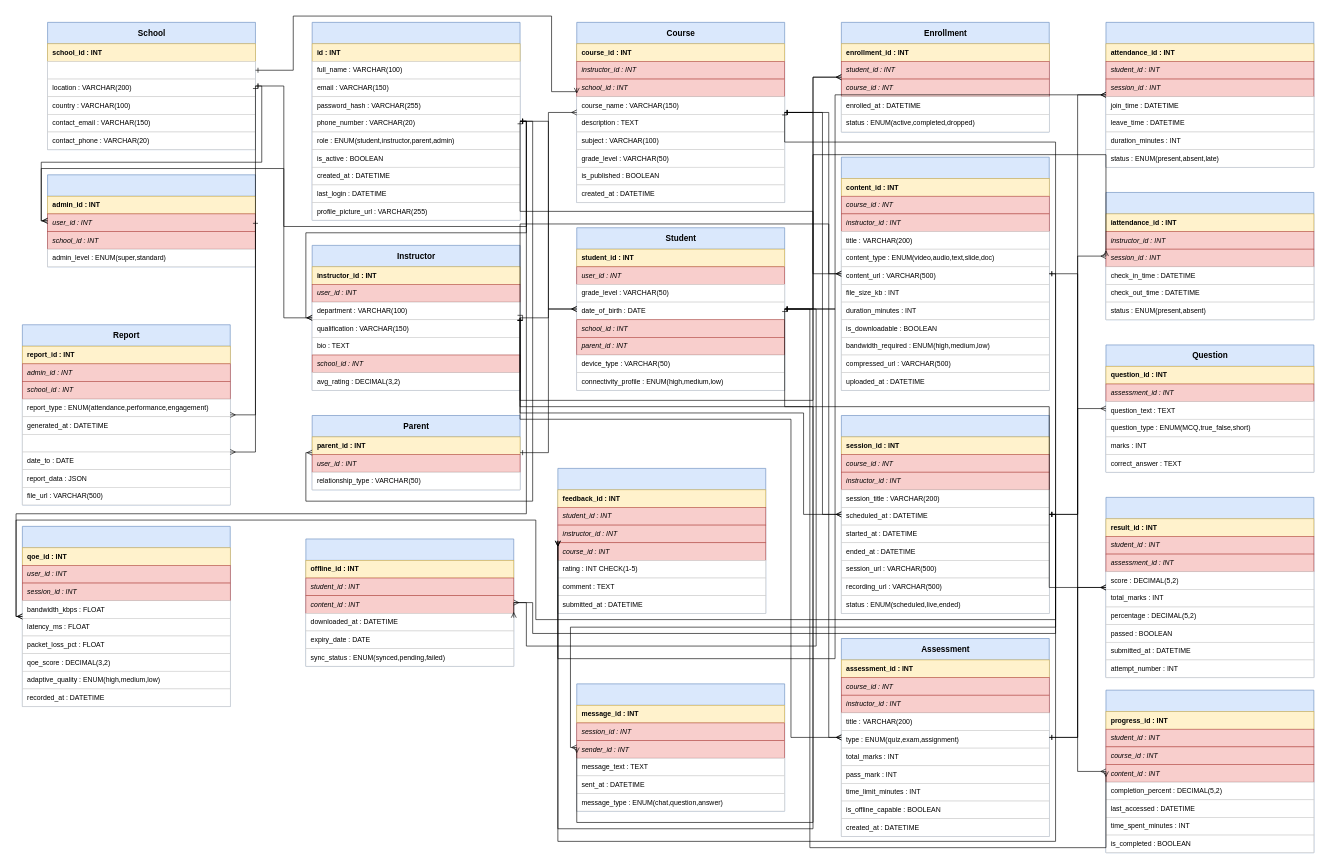
Image size: 1325x864. Some labels were removed from this diagram. The box of each missing label's shape, as (x1, y1, x2, y2) in pixels:
AssessmentResult: (1105, 497, 1314, 678)
ChatMessage: (576, 683, 785, 811)
date_from : DATE: (22, 434, 230, 452)
InstructorAttendance: (1105, 192, 1314, 320)
InstructorFeedback: (557, 468, 766, 613)
LearnerProgress: (1105, 690, 1314, 853)
LearningContent: (841, 157, 1049, 390)
LiveSession: (841, 415, 1049, 613)
NetworkQoE: (22, 526, 230, 707)
OfflineContent: (305, 538, 514, 666)
school_name : VARCHAR(150): (47, 61, 255, 79)
SchoolAdministrator: (47, 174, 255, 267)
StudentAttendance: (1105, 22, 1314, 167)
User: (312, 22, 520, 220)
